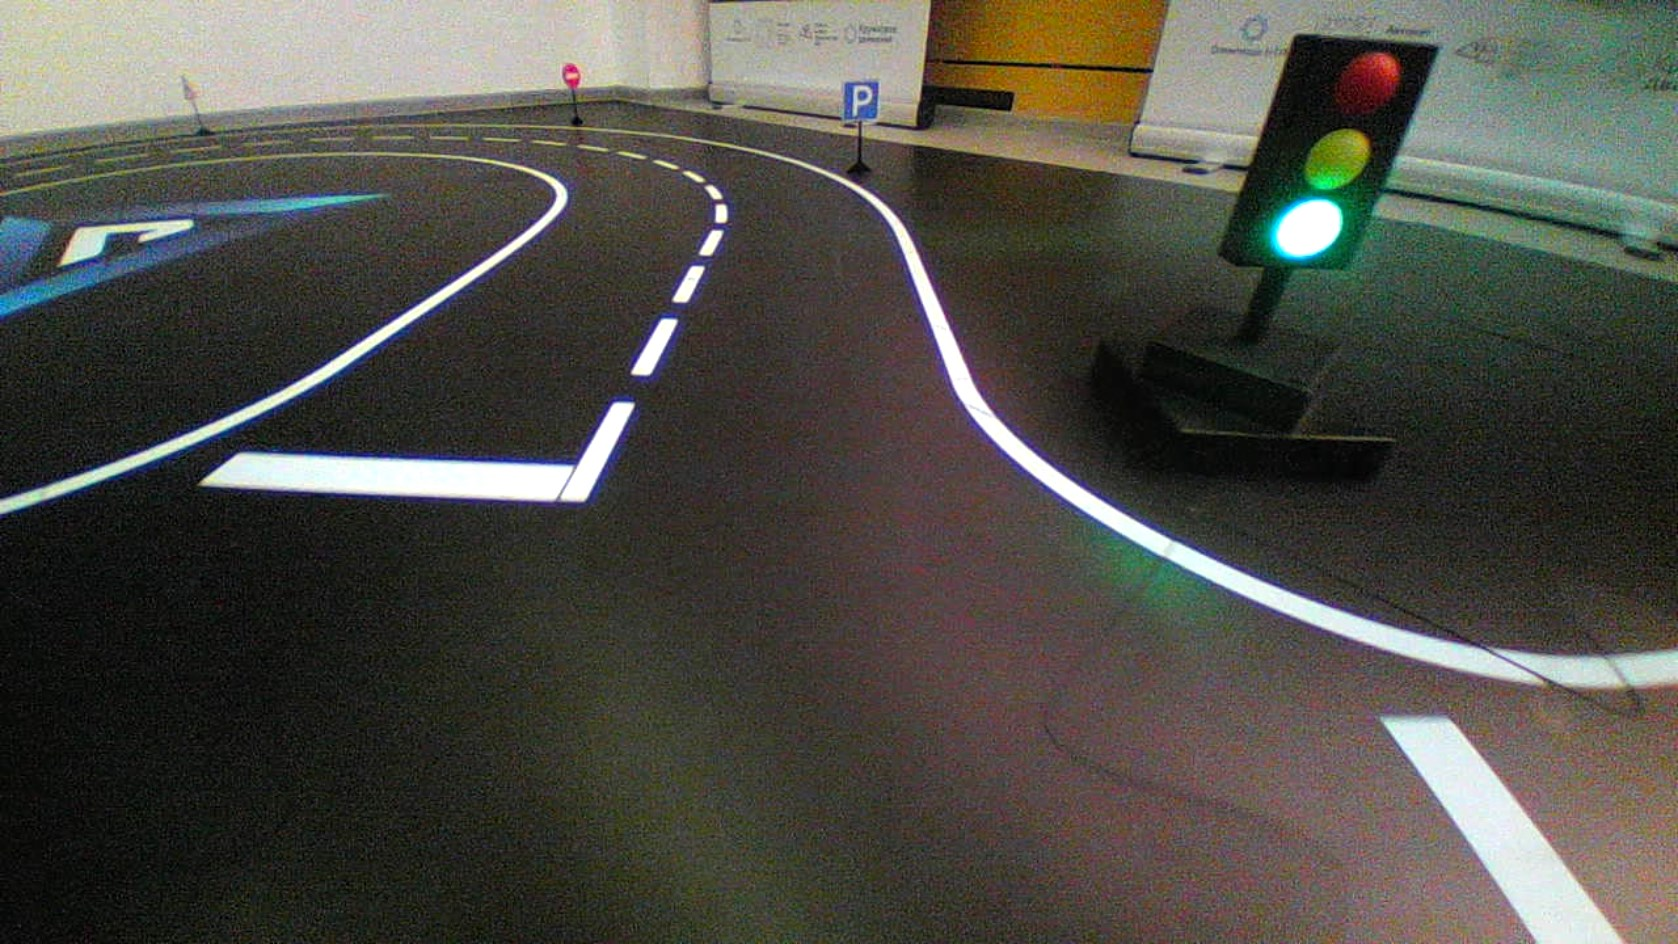trafficlight: (1214, 31, 1442, 269)
